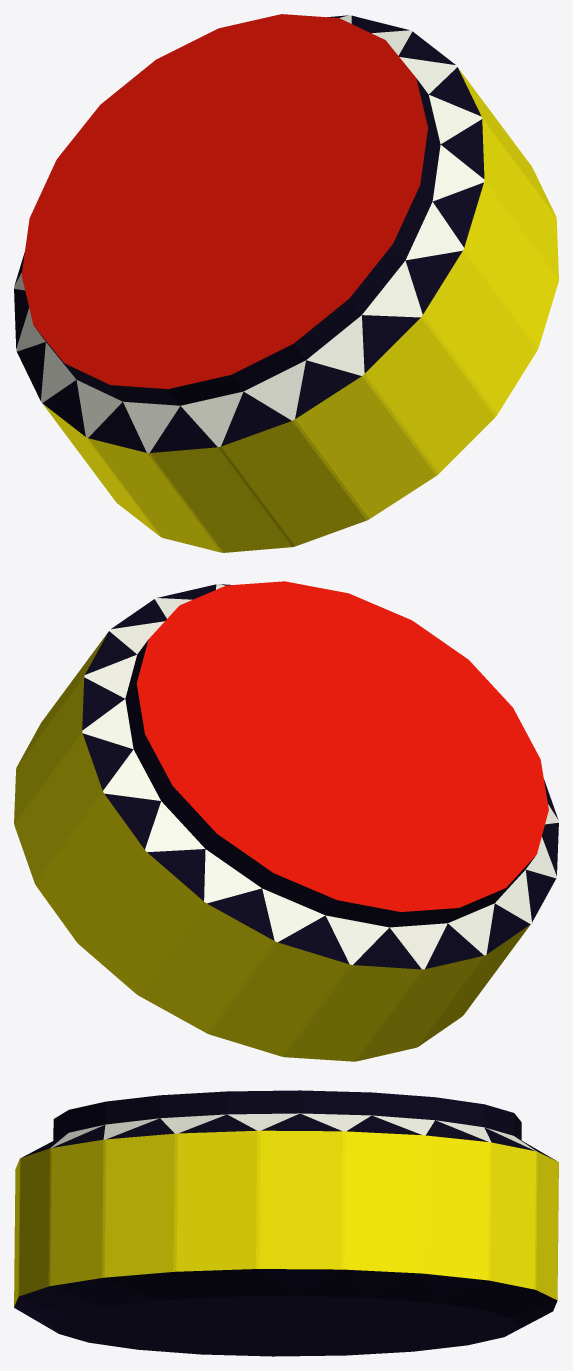
File: rampa3.fbx
3 views of the same model, one above another, from view 1: azimuth 30°, elevation 25°; view 2: azimuth 150°, elevation 25°; view 3: azimuth 270°, elevation 25° (orthographic). The views are drawn at different scales.
Visible parts, largest first — view 1: Cylinder; view 2: Cylinder; view 3: Cylinder.
Part boxes in pixels (<box>): Cylinder: <box>14,14,558,552</box>; Cylinder: <box>14,581,558,1061</box>; Cylinder: <box>14,1090,558,1356</box>.
Bounding box in the file's own units: 47.43 × 39.75 × 53.71.
